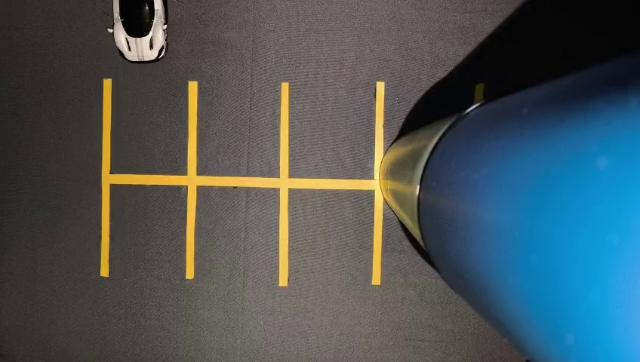toy_car: (86, 0, 202, 86)
